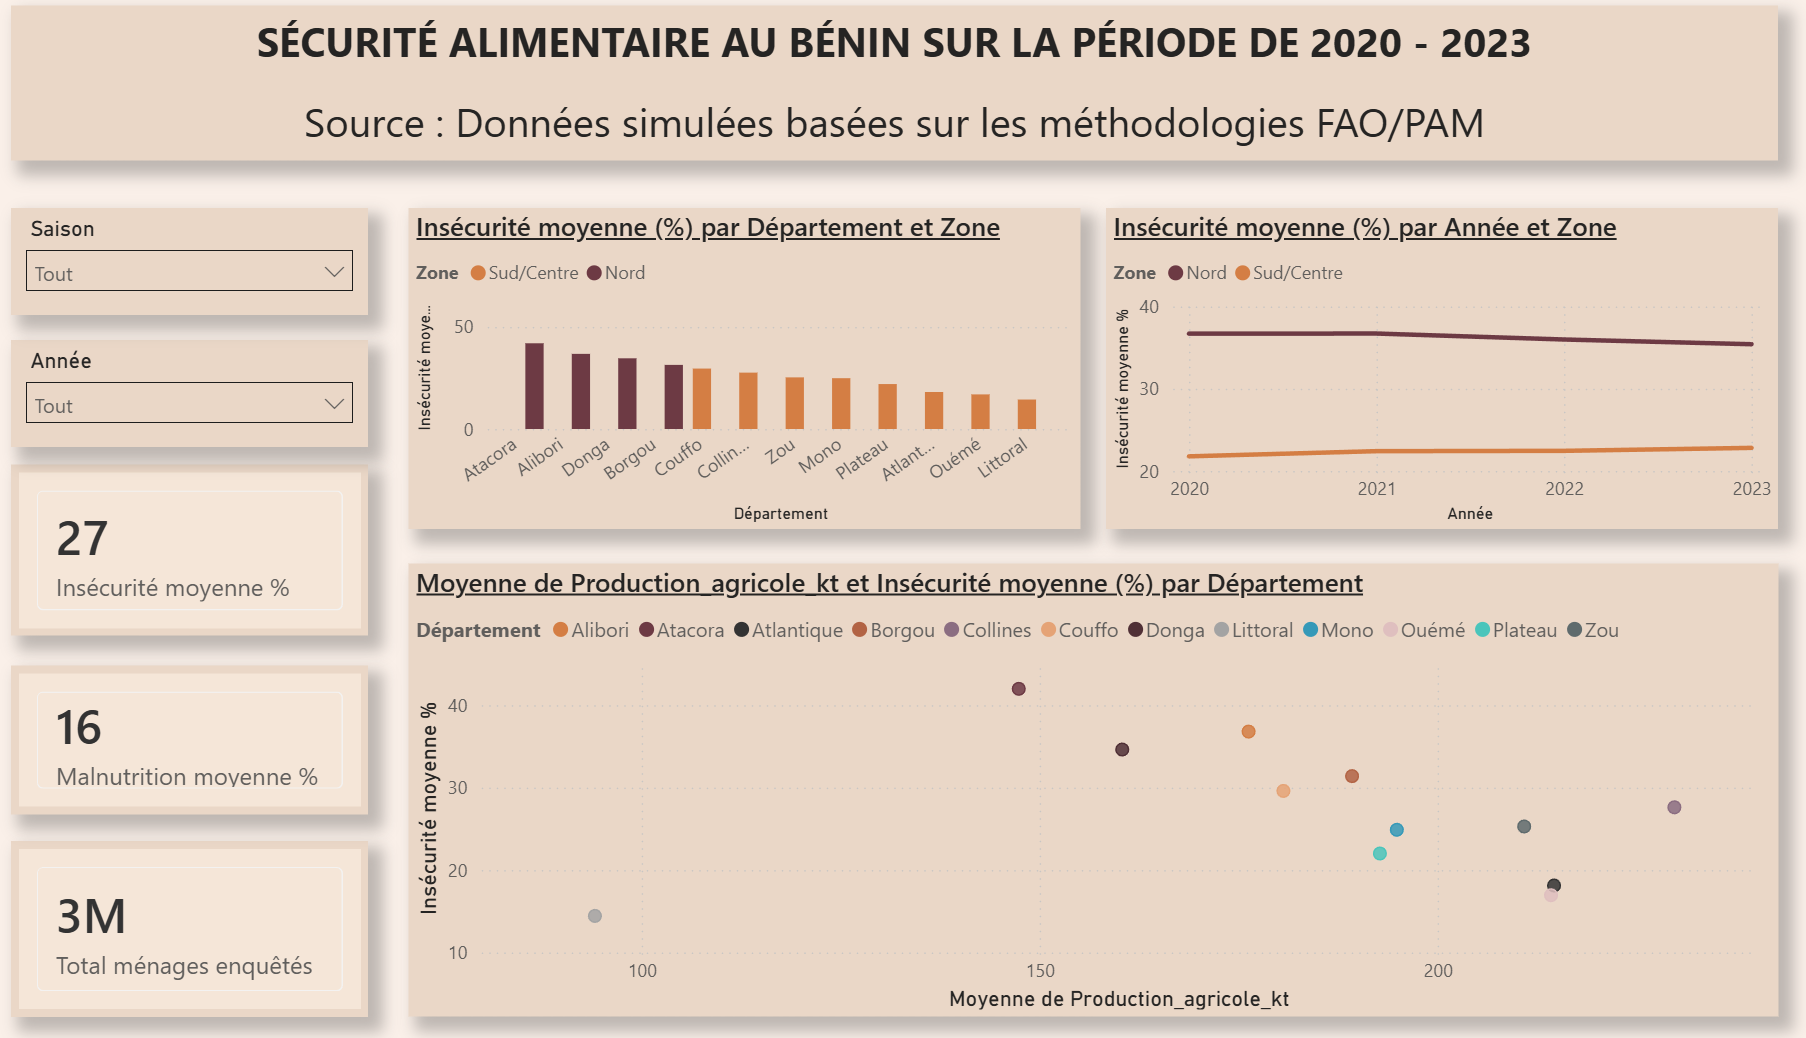

The dashboard page shown, as its layout file describes it:
{"tool":"powerbi","page":{"name":"Page 1","canvas":[1280,720],"ordinal":0},"visuals":[{"type":"cardVisual","fields":{"Data":["Mesures.Insécurité moyenne"]},"box":[42,317,238,114],"z":0},{"type":"cardVisual","fields":{"Data":["Mesures.Total ménages enquêtés"]},"box":[42,568,238,117],"z":1000},{"type":"cardVisual","fields":{"Data":["Mesures.Malnutrition moyenne %"]},"box":[42,451,238,99],"z":2000},{"type":"clusteredColumnChart","title":"Insécurité moyenne (%) par Département et Zone","fields":{"Category":["securite_alimentaire_benin.Département"],"Y":["Mesures.Insécurité moyenne %"],"Series":["securite_alimentaire_benin.Zone"]},"box":[307,146,448,214],"z":3000},{"type":"lineChart","title":"Insécurité moyenne (%) par Année et Zone","fields":{"Category":["securite_alimentaire_benin.Année"],"Y":["Mesures.Insécurité moyenne %"],"Series":["securite_alimentaire_benin.Zone"]},"box":[772,146,448,214],"z":4000},{"type":"scatterChart","title":"Moyenne de Production_agricole_kt et Insécurité moyenne (%) par Département","fields":{"X":["Avg(securite_alimentaire_benin.Production_agricole_kt)"],"Y":["Mesures.Insécurité moyenne %"],"Series":["securite_alimentaire_benin.Département"]},"box":[307,383,913,302],"z":5000},{"type":"slicer","fields":{"Values":["securite_alimentaire_benin.Année"]},"box":[42,234,238,71],"z":6000},{"type":"slicer","fields":{"Values":["securite_alimentaire_benin.Saison"]},"box":[42,146,238,71],"z":7000},{"type":"textbox","box":[42,11,1178,103],"z":8000}]}

Visuals, with their boxes in screenshot pixels (x1, y1, x2, y2), scaled from the page's 1280x720 canvas onto the 1806x1038 screenshot:
cardVisual - Mesures.Insécurité moyenne: crop(59, 457, 395, 621)
cardVisual - Mesures.Total ménages enquêtés: crop(59, 819, 395, 988)
cardVisual - Mesures.Malnutrition moyenne %: crop(59, 650, 395, 793)
"Insécurité moyenne (%) par Département et Zone" clusteredColumnChart: crop(433, 210, 1065, 519)
"Insécurité moyenne (%) par Année et Zone" lineChart: crop(1089, 210, 1721, 519)
"Moyenne de Production_agricole_kt et Insécurité moyenne (%) par Département" scatterChart: crop(433, 552, 1721, 988)
slicer - securite_alimentaire_benin.Année: crop(59, 337, 395, 440)
slicer - securite_alimentaire_benin.Saison: crop(59, 210, 395, 313)
textbox: crop(59, 16, 1721, 164)
